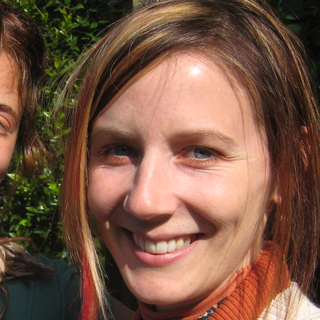eye: (88, 135, 150, 167), (169, 141, 231, 171)
